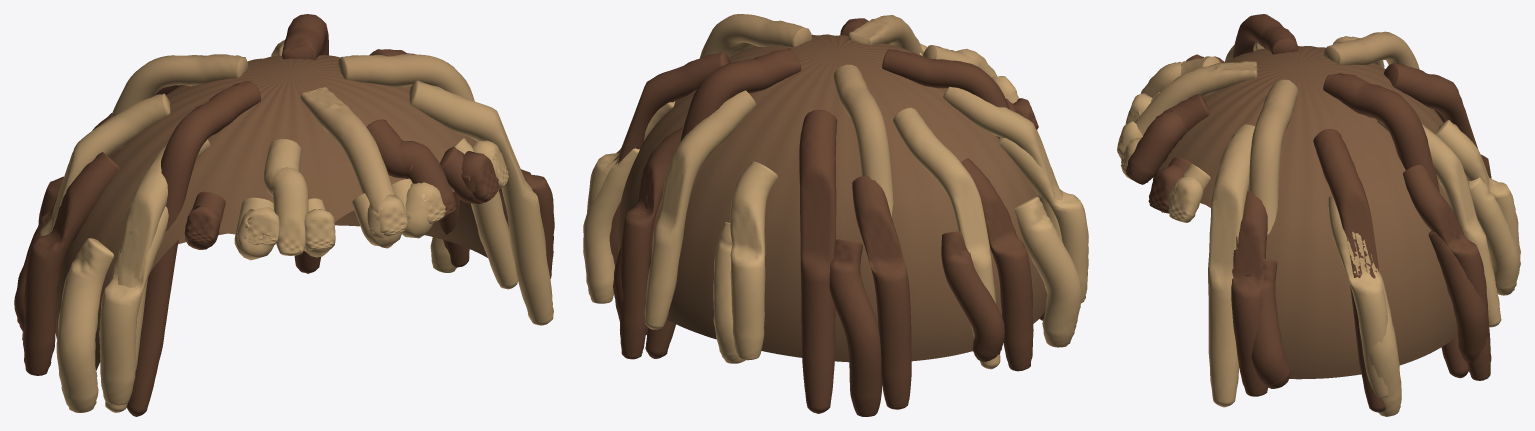
Rendered from Highlights-acf827faef03251-hair.glb.
The picture shows the model from 3 angles, left to right: view 1: azimuth 30°, elevation 25°; view 2: azimuth 150°, elevation 25°; view 3: azimuth 270°, elevation 25°; orthographic projection. The views are drawn at different scales.
Visible parts, largest first — view 1: 226 hair / Hair / loc main251.001, 226 hair / Hair / loc accent251.001, 226 hair / Hair / recessed roots251.001; view 2: 226 hair / Hair / loc main251.001, 226 hair / Hair / recessed roots251.001, 226 hair / Hair / loc accent251.001; view 3: 226 hair / Hair / loc main251.001, 226 hair / Hair / recessed roots251.001, 226 hair / Hair / loc accent251.001.
Boxes of the visible parts, x1,y1,x2,y2 form: 226 hair / Hair / loc main251.001: (14,14,554,416); 226 hair / Hair / loc accent251.001: (56,40,553,412); 226 hair / Hair / recessed roots251.001: (55,55,508,370); 226 hair / Hair / loc main251.001: (609,15,1045,416); 226 hair / Hair / recessed roots251.001: (617,34,1047,362); 226 hair / Hair / loc accent251.001: (583,14,1088,363); 226 hair / Hair / loc main251.001: (1126,14,1491,412); 226 hair / Hair / recessed roots251.001: (1158,46,1477,379); 226 hair / Hair / loc accent251.001: (1117,31,1520,416).
Bounding box in the file's own units: 1.13 × 0.663 × 0.8919.
